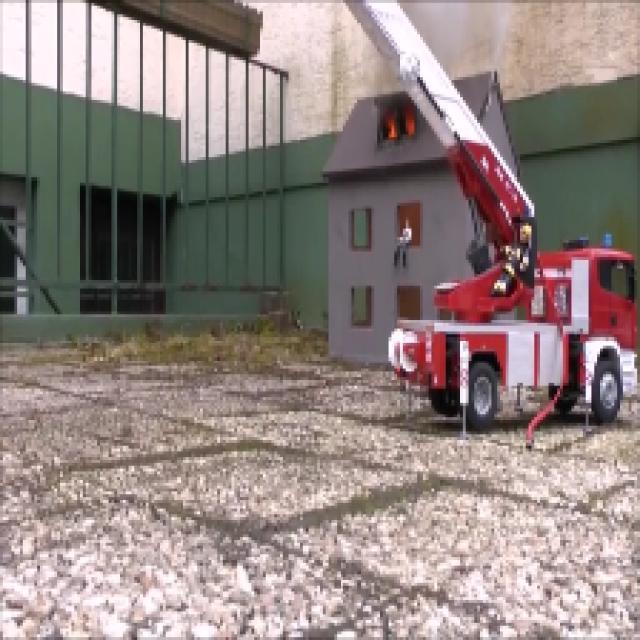Fire: (372, 84, 446, 163)
Smoke: (428, 6, 538, 66)
